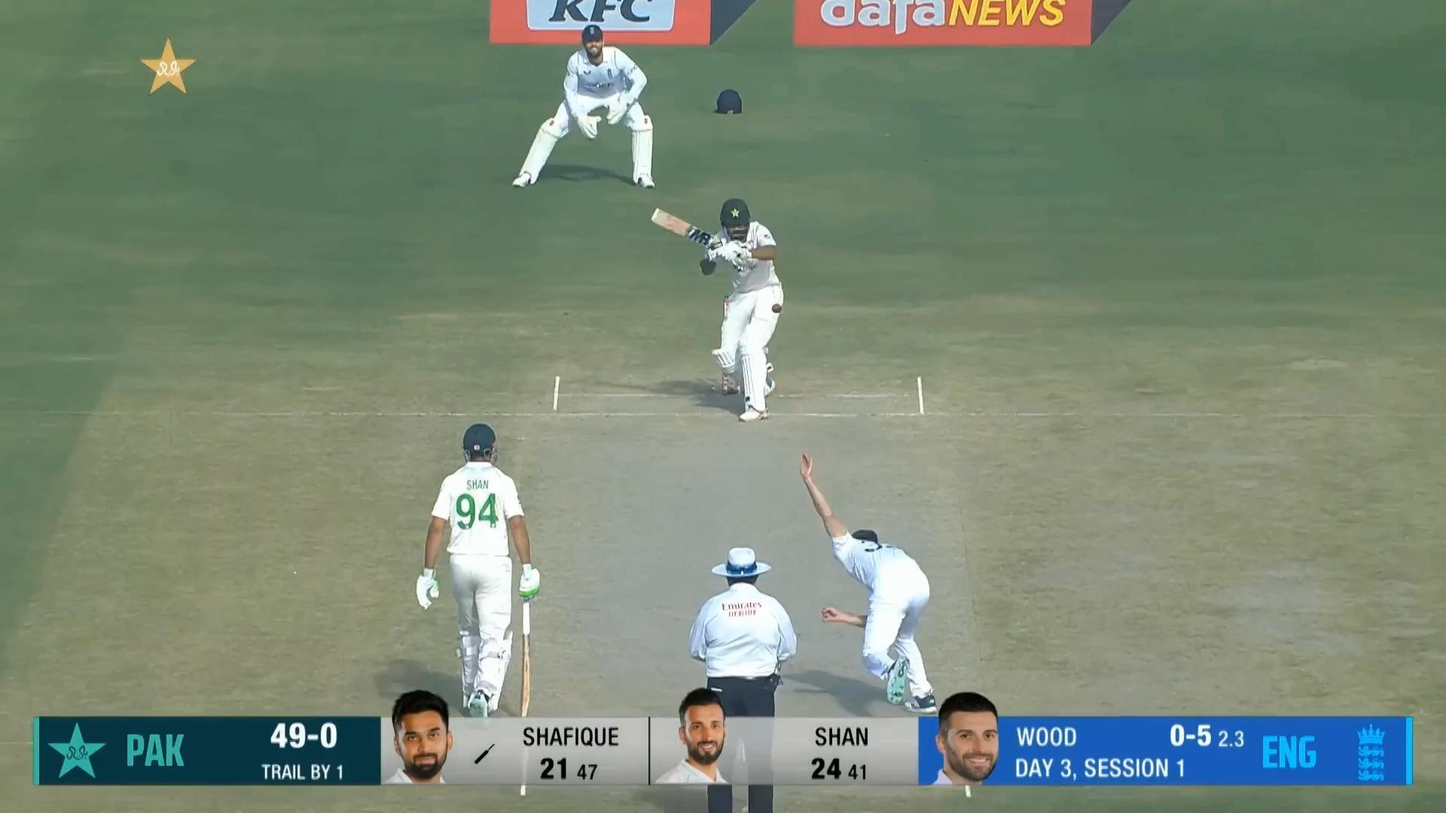BM 1: (650, 198, 784, 423)
BO: (799, 451, 941, 716)
